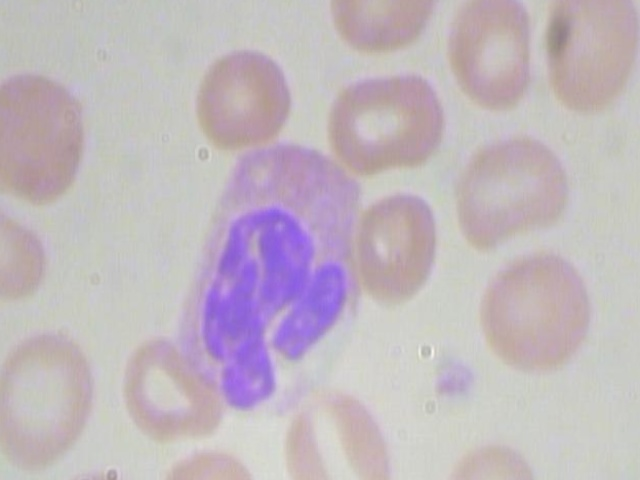RBC: (467, 235, 597, 388), (321, 57, 452, 182), (449, 129, 580, 253), (326, 185, 457, 309), (106, 325, 237, 449), (0, 69, 116, 209), (0, 322, 99, 472), (534, 0, 640, 124), (190, 31, 295, 147), (443, 0, 545, 118), (284, 381, 394, 480), (316, 0, 448, 66), (443, 429, 547, 480), (146, 447, 271, 480)
WBC: (145, 140, 377, 424)
